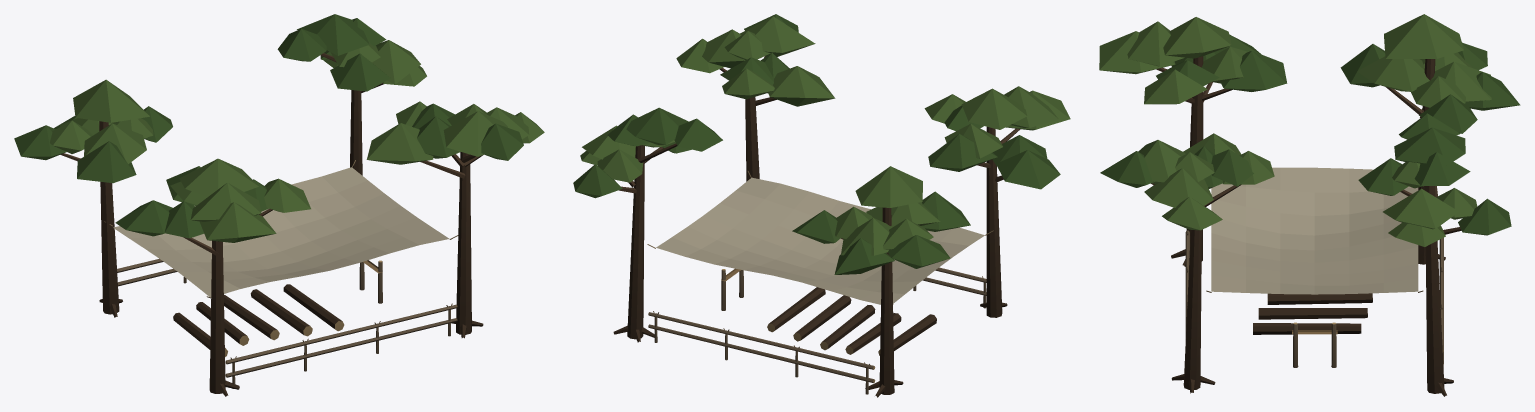
The model's file is awning.glb.
The picture shows the model from 3 angles, left to right: view 1: azimuth 30°, elevation 25°; view 2: azimuth 150°, elevation 25°; view 3: azimuth 270°, elevation 25°; orthographic projection. The views are drawn at different scales.
Visible parts, largest first — view 1: awning; view 2: awning; view 3: awning.
Boxes of the visible parts, x1,y1,x2,y2 form: awning: (14, 14, 544, 396); awning: (573, 14, 1070, 397); awning: (1099, 14, 1520, 396).
Size of the model in its own units: 55.9 by 31.66 by 48.05.
